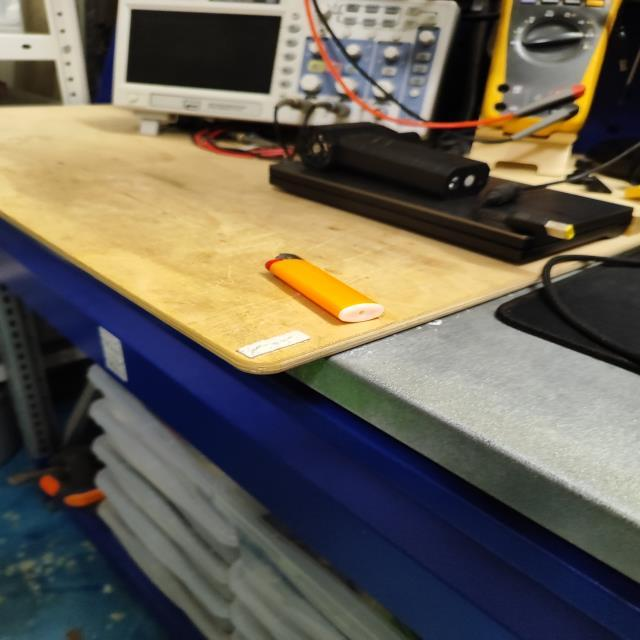lighter: (265, 254, 383, 321)
